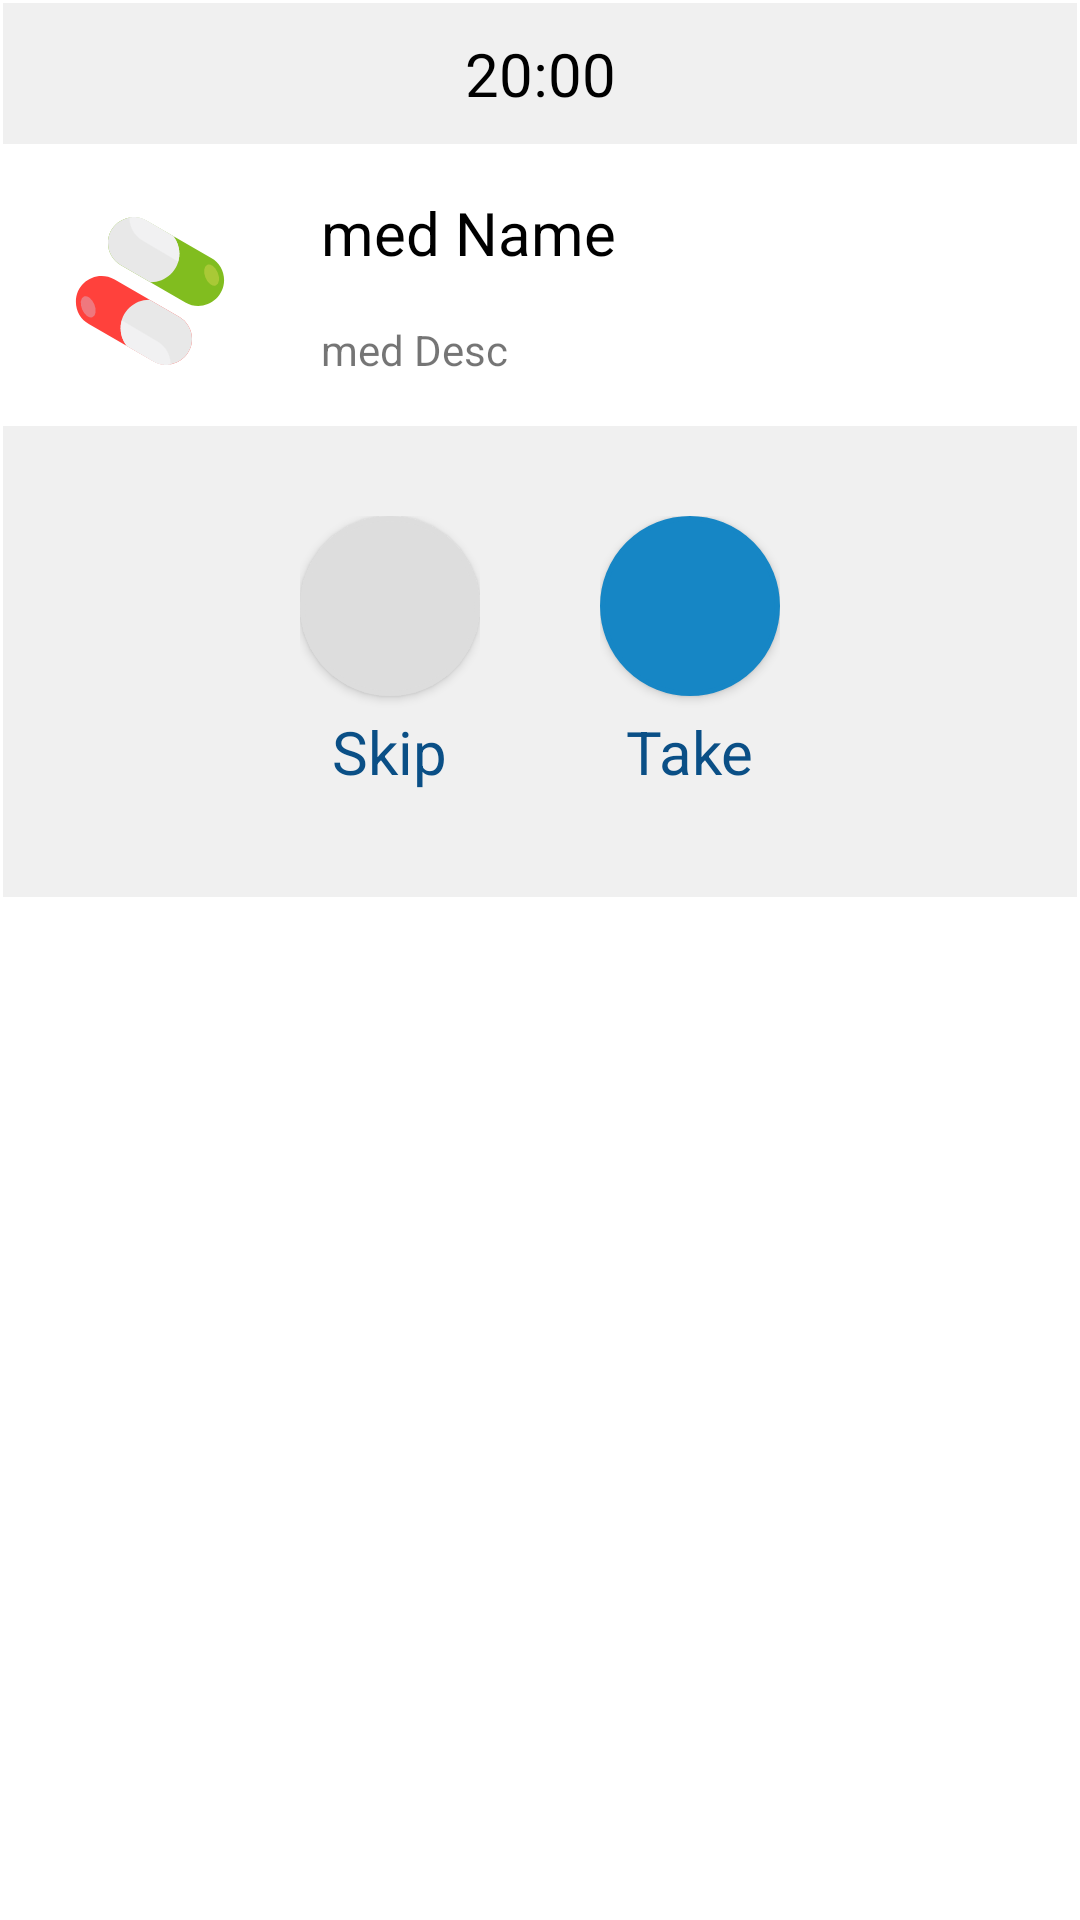

Where to tap for icons on this 1080px×1920px app screen, as (x,y):
capsules: (150,291)
